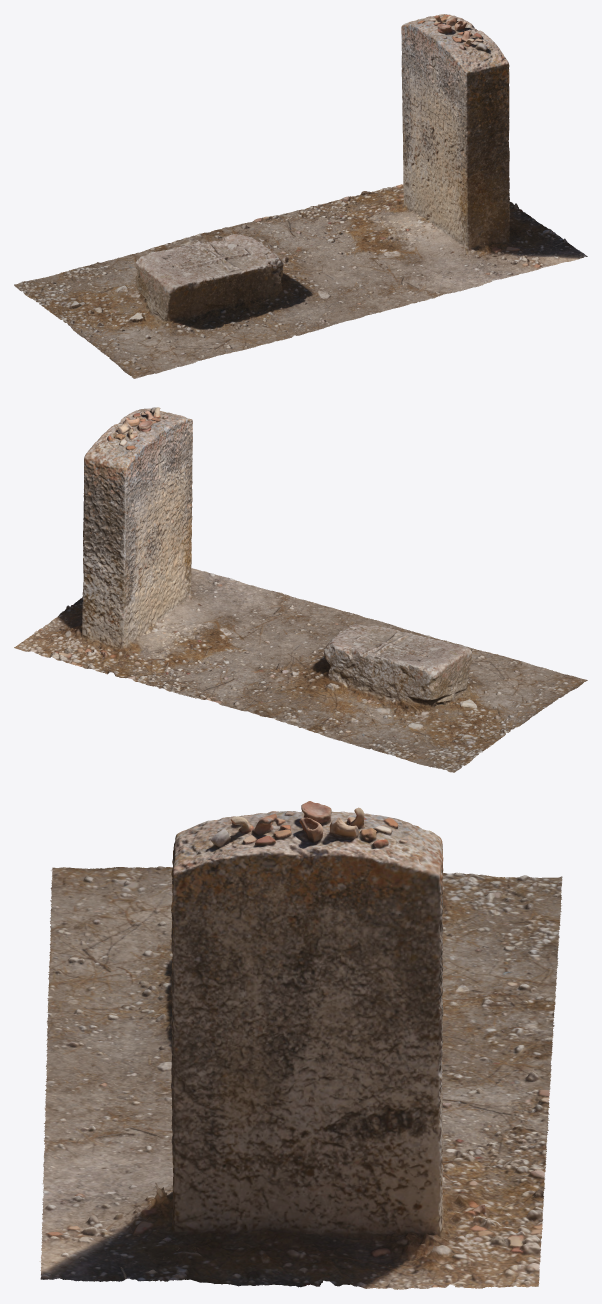
Rendered from mount_zion_cemetery_2017_-_petries_grave.glb.
3 renders of one model, top to bottom at view 1: azimuth 30°, elevation 25°; view 2: azimuth 150°, elevation 25°; view 3: azimuth 270°, elevation 25°, orthographic. The views are drawn at different scales.
Visible parts, largest first — view 1: Object_5, Object_4, Object_2, Object_3, Object_6; view 2: Object_4, Object_3, Object_6, Object_2, Object_5; view 3: Object_2, Object_5, Object_3, Object_4, Object_6.
Part boxes in pixels (bbox=[...]): Object_5: bbox=[160, 184, 587, 366]; Object_4: bbox=[14, 171, 517, 340]; Object_2: bbox=[401, 14, 509, 248]; Object_3: bbox=[135, 14, 509, 321]; Object_6: bbox=[71, 191, 525, 378]; Object_4: bbox=[18, 560, 526, 772]; Object_3: bbox=[82, 408, 471, 704]; Object_6: bbox=[14, 593, 587, 747]; Object_2: bbox=[81, 407, 192, 647]; Object_5: bbox=[29, 568, 541, 688]; Object_2: bbox=[171, 801, 443, 1236]; Object_5: bbox=[39, 909, 546, 1289]; Object_3: bbox=[171, 817, 443, 1228]; Object_4: bbox=[42, 872, 562, 1289]; Object_6: bbox=[45, 866, 556, 1288].
Bounding box in the file's own units: 2.4 × 1.1 × 1.2.
Materials: 1 (1 with a texture image).
